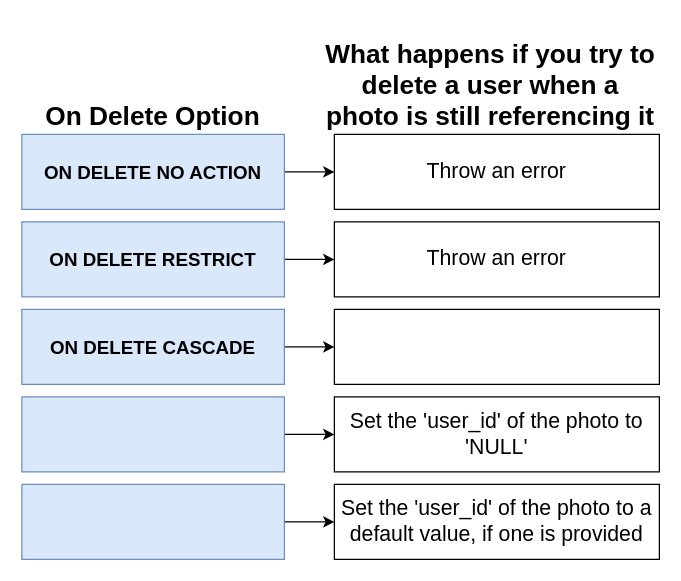
Image size: 681x581. Some labels were removed from this diagram. Each missing label, with the box of its shape:
Delete the photo too!: (333, 308, 659, 384)
ON DELETE SET DEFAULT: (21, 483, 284, 559)
ON DELETE SET NULL: (21, 396, 284, 472)
